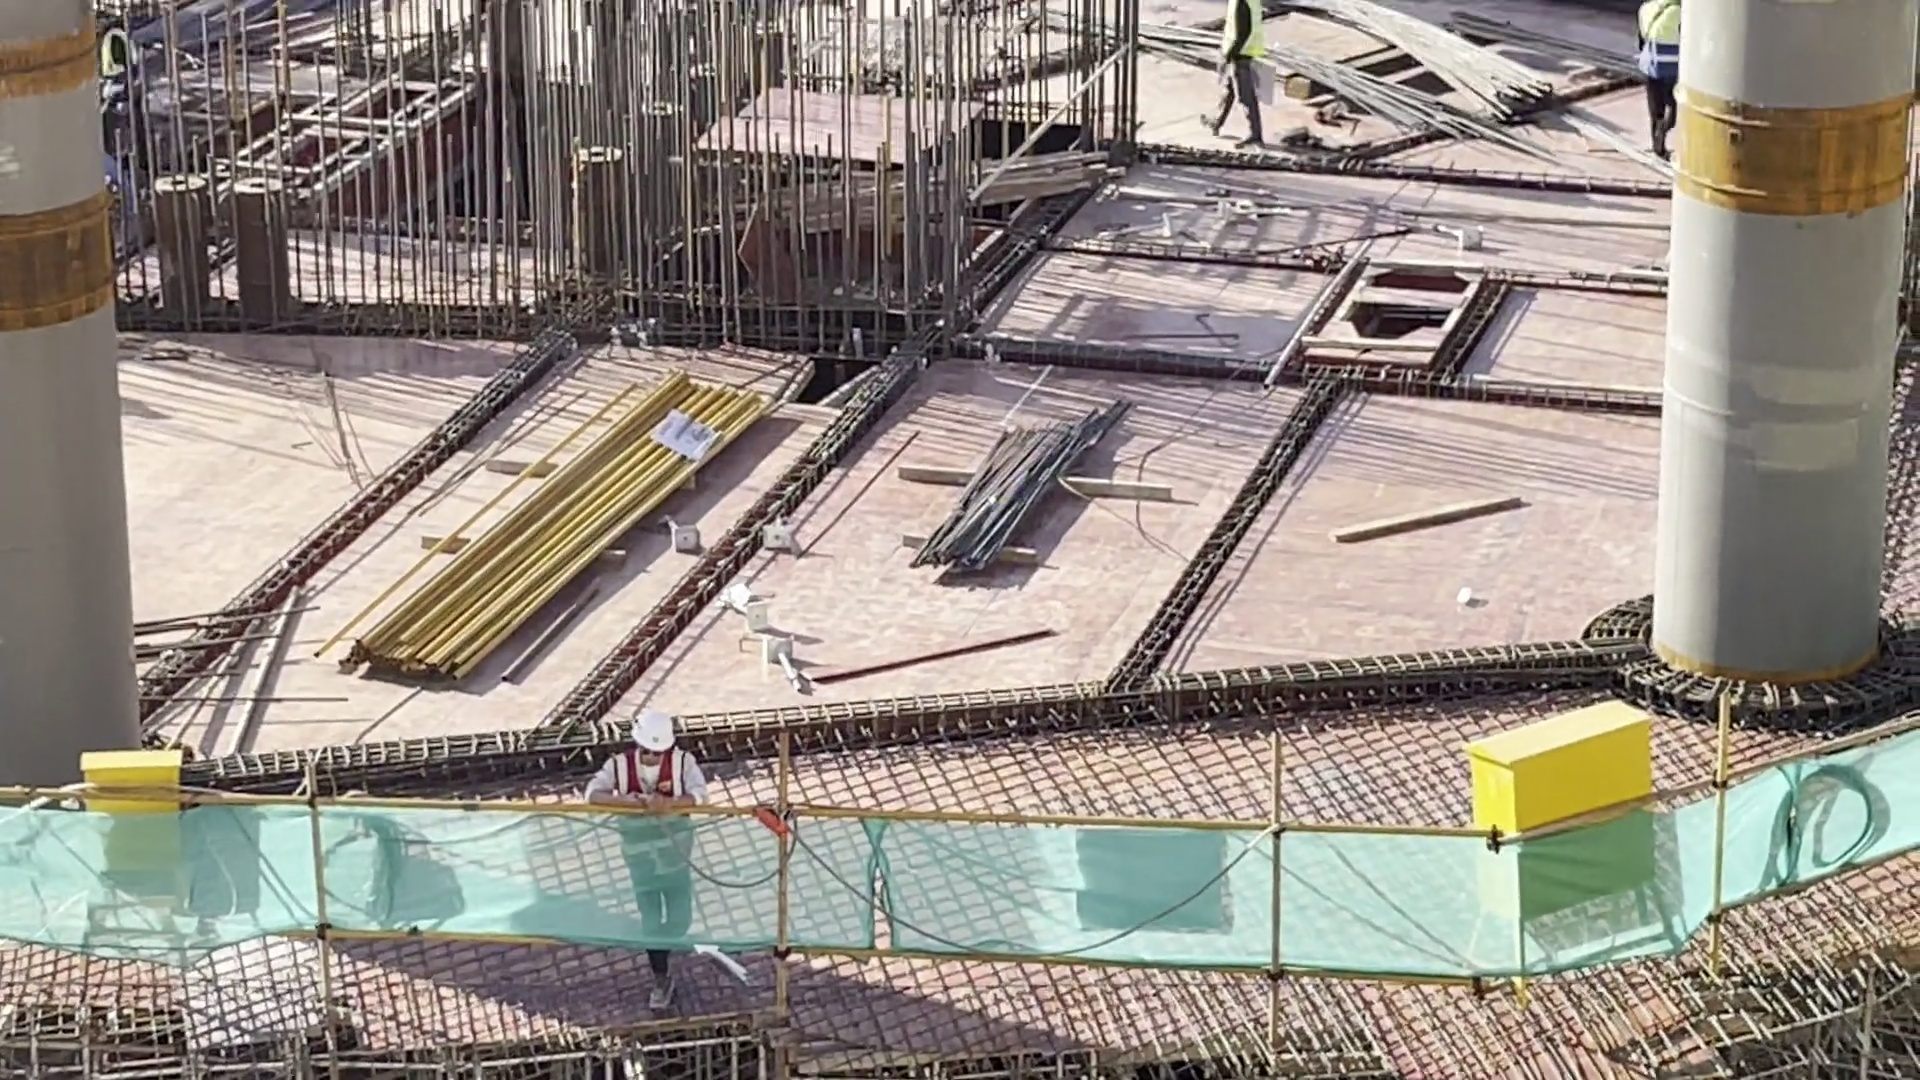ebox: (1455, 672, 1685, 909), (69, 749, 189, 908)
helmet: (630, 708, 674, 756)
person: (599, 700, 708, 1017), (85, 4, 173, 168), (1195, 1, 1278, 158), (1619, 2, 1685, 153)
vest: (615, 752, 697, 882), (1207, 1, 1273, 60), (93, 18, 142, 87), (1631, 1, 1675, 78)
